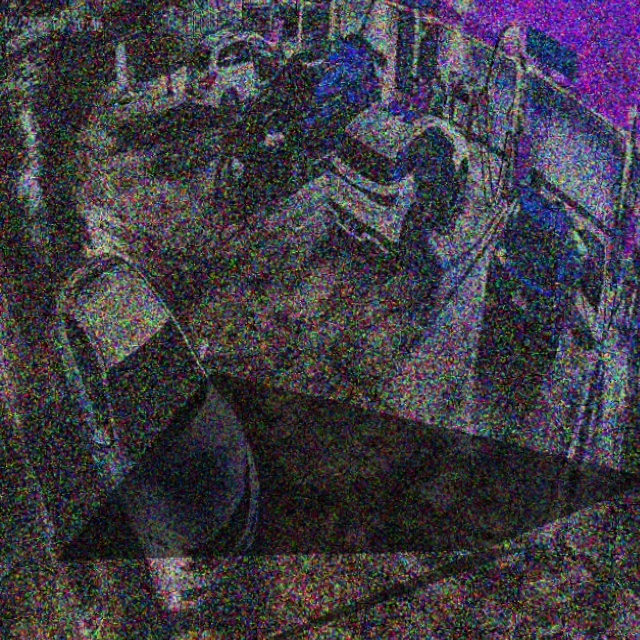Car: (54, 250, 262, 619), (325, 97, 479, 262), (233, 34, 386, 193)
